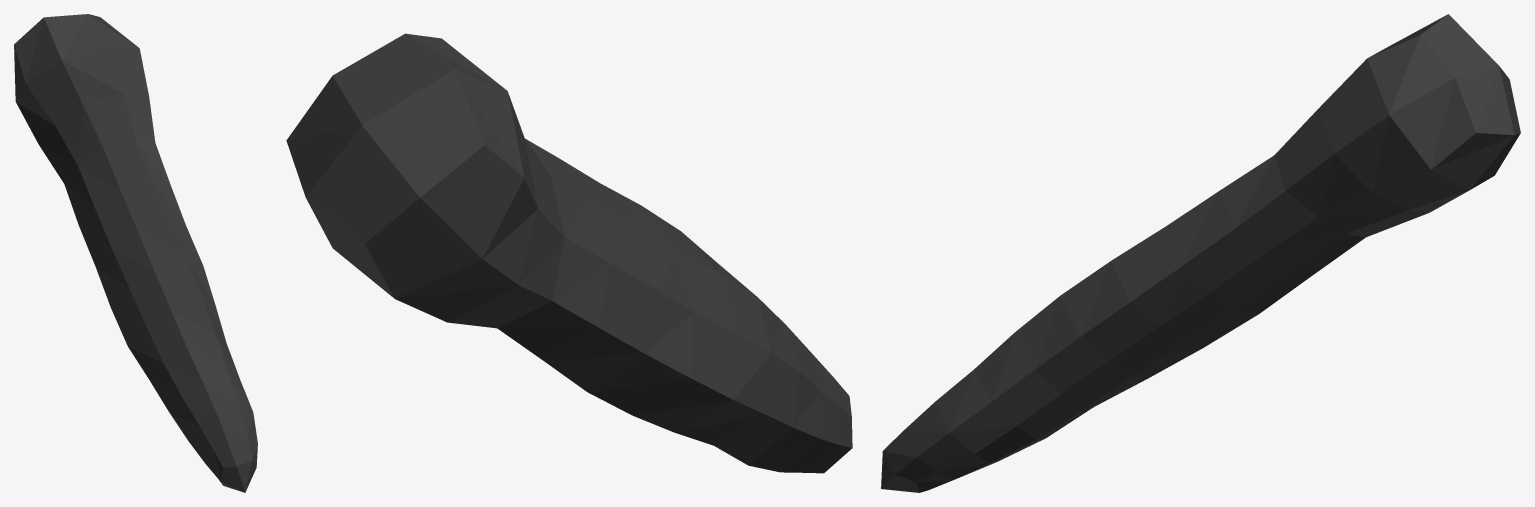
3 views of the same model, side by side, from view 1: azimuth 30°, elevation 25°; view 2: azimuth 150°, elevation 25°; view 3: azimuth 270°, elevation 25° (orthographic). The views are drawn at different scales.
Parts seen in each view (by area): view 1: world; view 2: world; view 3: world.
Part boxes in pixels (<box>): world: <box>14,14,257,492</box>; world: <box>286,33,852,473</box>; world: <box>881,14,1520,492</box>.
Size of the model in its own units: 0.00807 by 0.0245 by 0.0295.
Materials: 1 (1 with a texture image).
